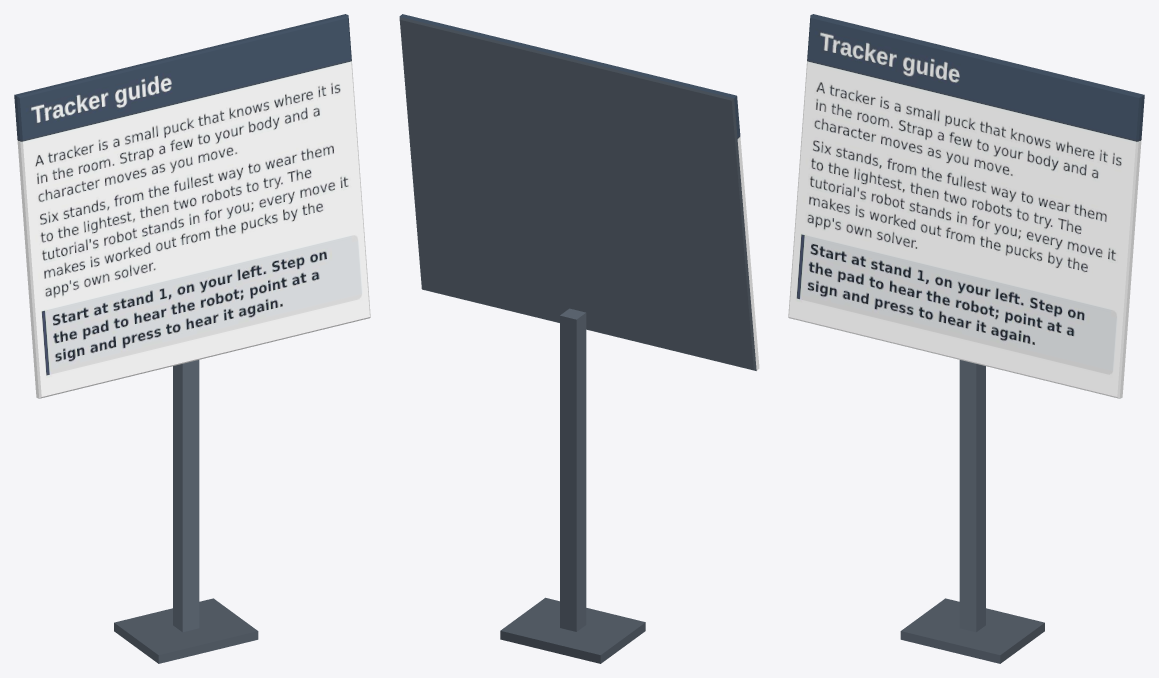
File: 00-welcome.glb
The picture shows the model from 3 angles, left to right: view 1: azimuth 30°, elevation 25°; view 2: azimuth 150°, elevation 25°; view 3: azimuth 330°, elevation 25°; orthographic projection.
Visible parts, largest first — view 1: board; view 2: board; view 3: board.
Boxes of the visible parts, <box> form: board: <box>14,14,370,663</box>; board: <box>399,14,759,663</box>; board: <box>788,14,1144,663</box>.
Bounding box in the file's own units: 1.2 × 2 × 0.28.
Materials: 1 (1 with a texture image).
